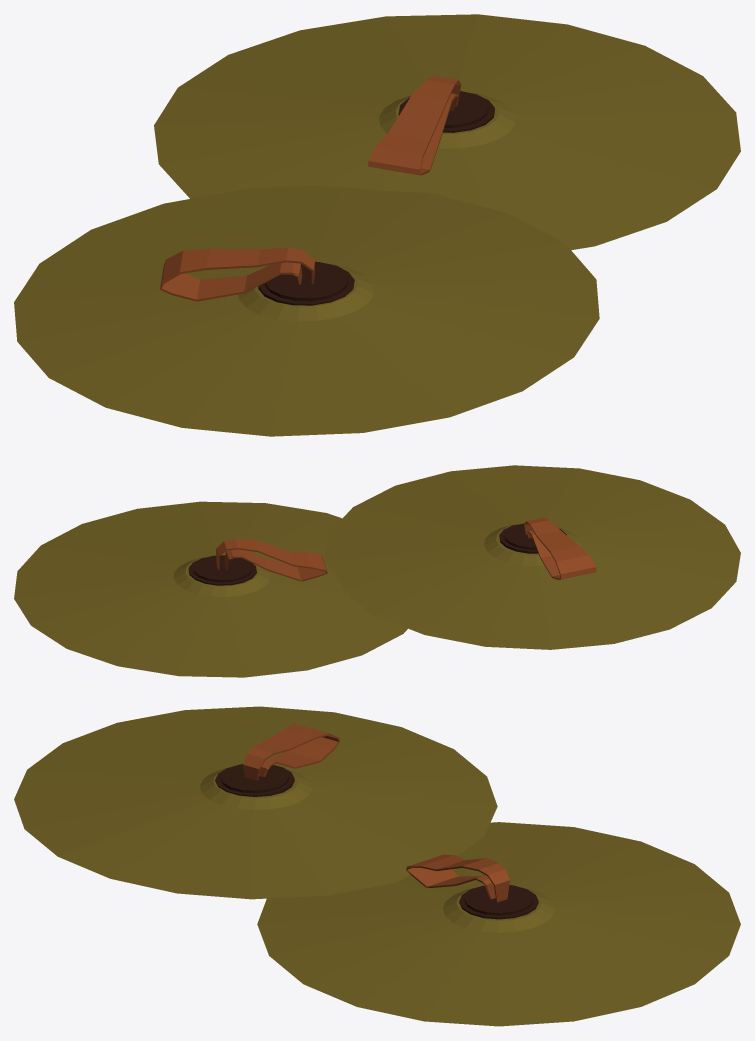
The model's file is CIMBALES.fbx.
3 renders of one model, top to bottom at view 1: azimuth 30°, elevation 25°; view 2: azimuth 150°, elevation 25°; view 3: azimuth 270°, elevation 25°, orthographic. The views are drawn at different scales.
Visible parts, largest first — view 1: Line02, Line01, Line03, Line04, Cylinder03, Cylinder02; view 2: Line02, Line01, Line04, Line03, Cylinder02, Cylinder03; view 3: Line02, Line01, Line03, Line04, Cylinder02, Cylinder03.
Boxes of the visible parts, x1=… form: Line02: x1=14, y1=185, x2=599, y2=436; Line01: x1=154, y1=14, x2=740, y2=250; Line03: x1=160, y1=247, x2=315, y2=301; Line04: x1=368, y1=76, x2=461, y2=175; Cylinder03: x1=258, y1=261, x2=354, y2=305; Cylinder02: x1=398, y1=91, x2=494, y2=132; Line02: x1=324, y1=465, x2=740, y2=649; Line01: x1=14, y1=501, x2=407, y2=677; Line04: x1=216, y1=539, x2=327, y2=581; Line03: x1=524, y1=517, x2=596, y2=579; Cylinder02: x1=188, y1=555, x2=256, y2=585; Cylinder03: x1=499, y1=523, x2=566, y2=553; Line02: x1=14, y1=706, x2=497, y2=899; Line01: x1=257, y1=822, x2=740, y2=1026; Line03: x1=243, y1=723, x2=339, y2=780; Line04: x1=406, y1=854, x2=509, y2=902; Cylinder02: x1=459, y1=885, x2=538, y2=919; Cylinder03: x1=215, y1=764, x2=294, y2=796.
Bounding box in the file's own units: 7377 × 566 × 7083.
